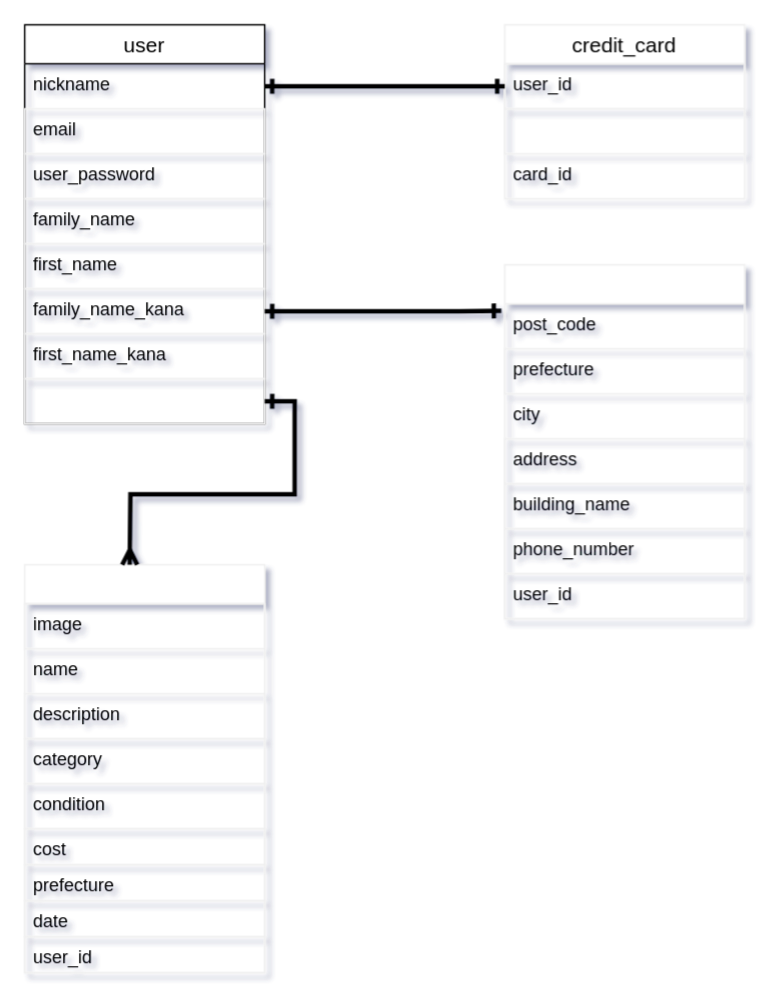
Image size: 770x998. Some labels were removed from this diagram. Each missing label, with the box of its shape:
birth_date: (23, 377, 265, 424)
customer_id: (503, 107, 745, 154)
destination: (503, 263, 745, 619)
item: (23, 563, 265, 973)
